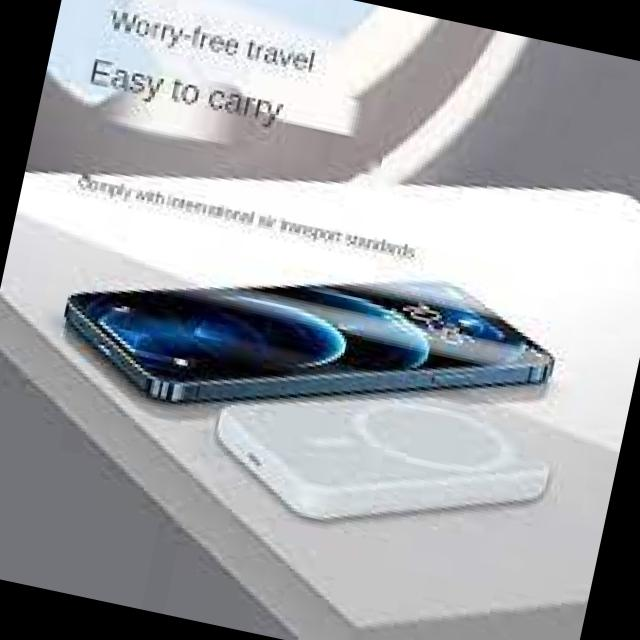portable-charger: (200, 346, 566, 574)
